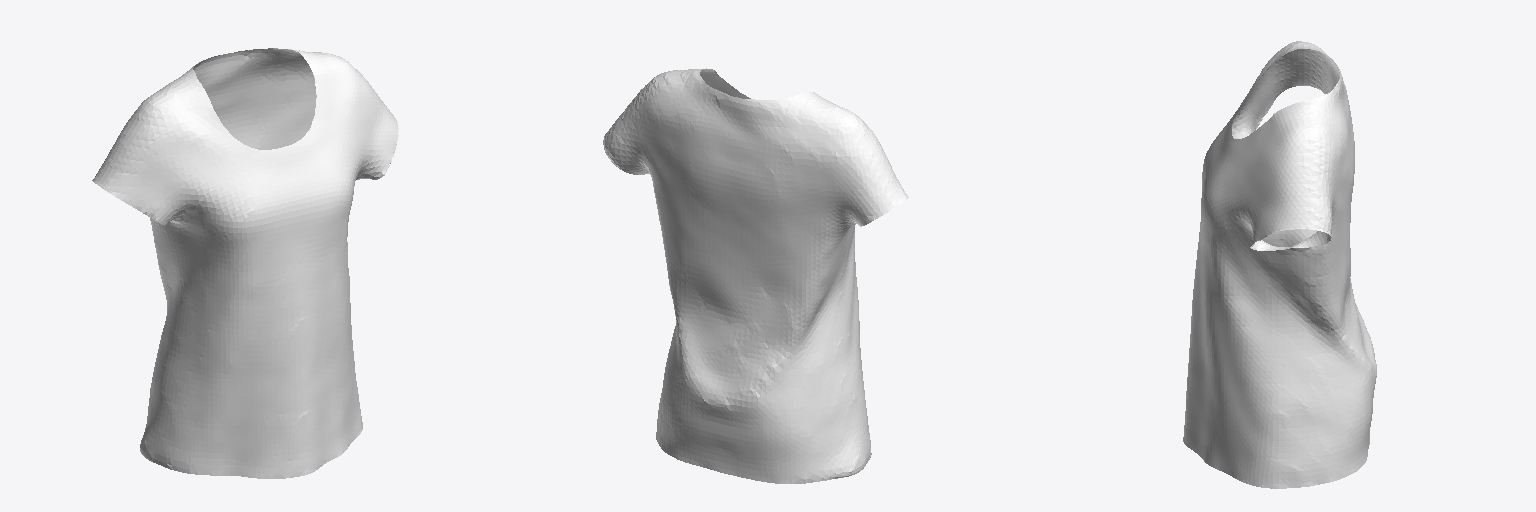
Rendered from [126][Woman][Tops][Light_Blue_T-Shirt][Edited].obj.
The picture shows the model from 3 angles: view 1: azimuth 30°, elevation 25°; view 2: azimuth 150°, elevation 25°; view 3: azimuth 270°, elevation 25°; orthographic projection.
Bounding box in the file's own units: 53.6 × 64.15 × 30.61.